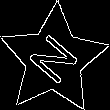N_SE: (22, 28, 85, 91)
